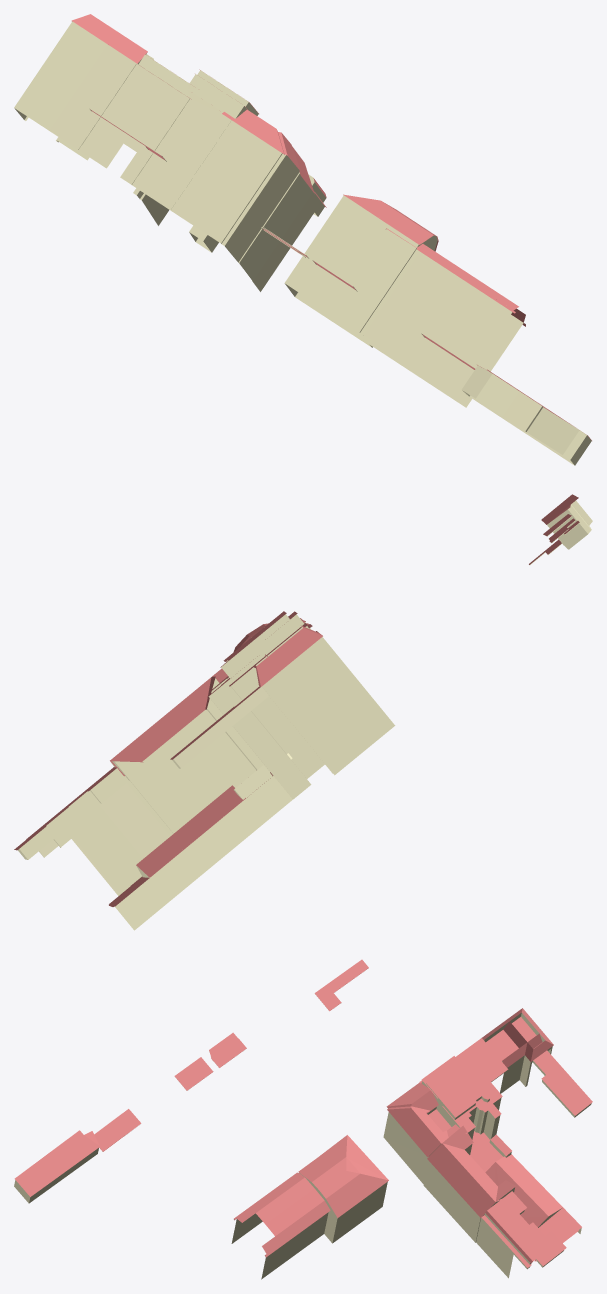
The model's file is tile_097.glb.
3 views of the same model, one above another, from view 1: azimuth 30°, elevation 25°; view 2: azimuth 150°, elevation 25°; view 3: azimuth 270°, elevation 25° (orthographic). The views are drawn at different scales.
Parts seen in each view (by area): view 1: Batched_Building_ID_59D12C5C-5B85-44AC-99D1-5CC539017FCF, Batched_Building_ID_1C9CAF81-D884-4157-A68C-E6AE388B0EF9; view 2: Batched_Building_ID_59D12C5C-5B85-44AC-99D1-5CC539017FCF, Batched_Building_ID_1C9CAF81-D884-4157-A68C-E6AE388B0EF9; view 3: Batched_Building_ID_1C9CAF81-D884-4157-A68C-E6AE388B0EF9, Batched_Building_ID_59D12C5C-5B85-44AC-99D1-5CC539017FCF.
Boxes of the visible parts, bbox=[...] form: Batched_Building_ID_59D12C5C-5B85-44AC-99D1-5CC539017FCF: bbox=[14, 21, 591, 465]; Batched_Building_ID_1C9CAF81-D884-4157-A68C-E6AE388B0EF9: bbox=[71, 14, 591, 440]; Batched_Building_ID_59D12C5C-5B85-44AC-99D1-5CC539017FCF: bbox=[18, 500, 592, 930]; Batched_Building_ID_1C9CAF81-D884-4157-A68C-E6AE388B0EF9: bbox=[14, 494, 579, 906]; Batched_Building_ID_1C9CAF81-D884-4157-A68C-E6AE388B0EF9: bbox=[14, 959, 592, 1267]; Batched_Building_ID_59D12C5C-5B85-44AC-99D1-5CC539017FCF: bbox=[14, 994, 591, 1279].
Size of the model in its own units: 94.88 by 81.73 by 190.
